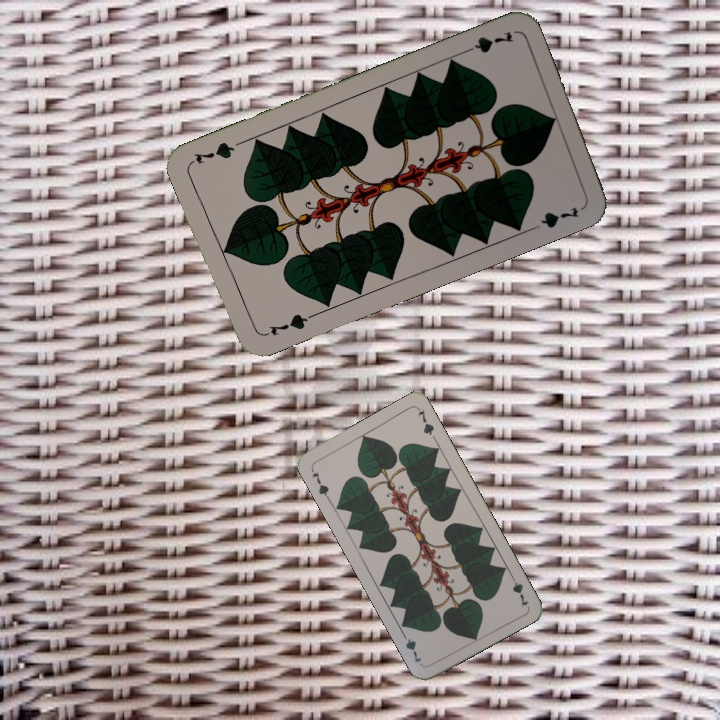G7: (259, 309, 316, 340), (458, 27, 516, 57), (506, 570, 532, 609), (307, 465, 332, 502)
